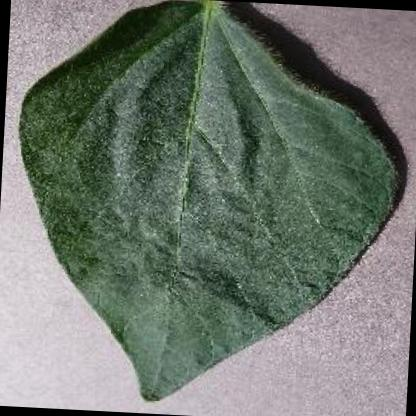soy: (1, 0, 416, 414)
